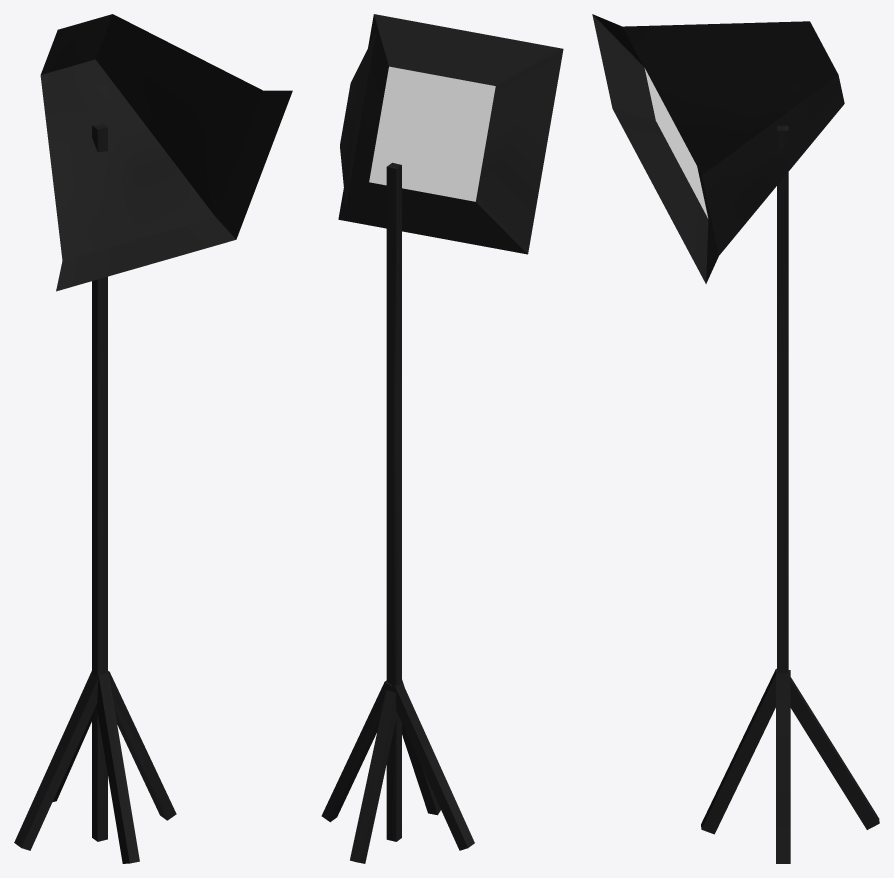
Rendered from Light_stand.fbx.
The picture shows the model from 3 angles, left to right: view 1: azimuth 30°, elevation 25°; view 2: azimuth 150°, elevation 25°; view 3: azimuth 270°, elevation 25°; orthographic projection. The views are drawn at different scales.
Visible parts, largest first — view 1: Cube; view 2: Cube; view 3: Cube.
Boxes of the visible parts, x1=… form: Cube: x1=14, y1=14, x2=292, y2=863; Cube: x1=321, y1=14, x2=563, y2=863; Cube: x1=592, y1=14, x2=879, y2=863.
Bounding box in the file's own units: 343 × 1322 × 429.
1 material, 1 textured.
